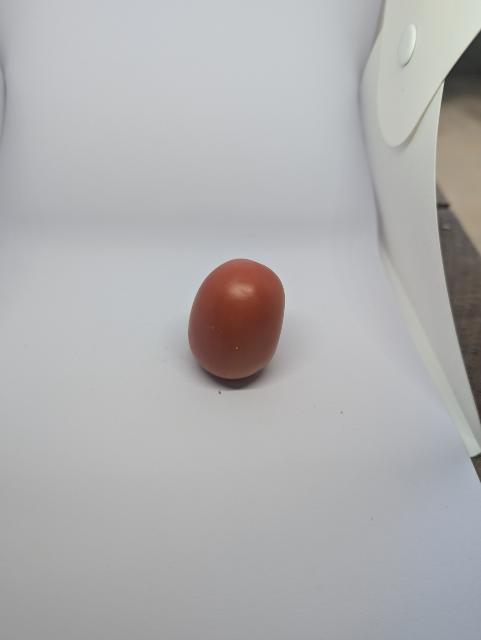red: (181, 253, 292, 394)
